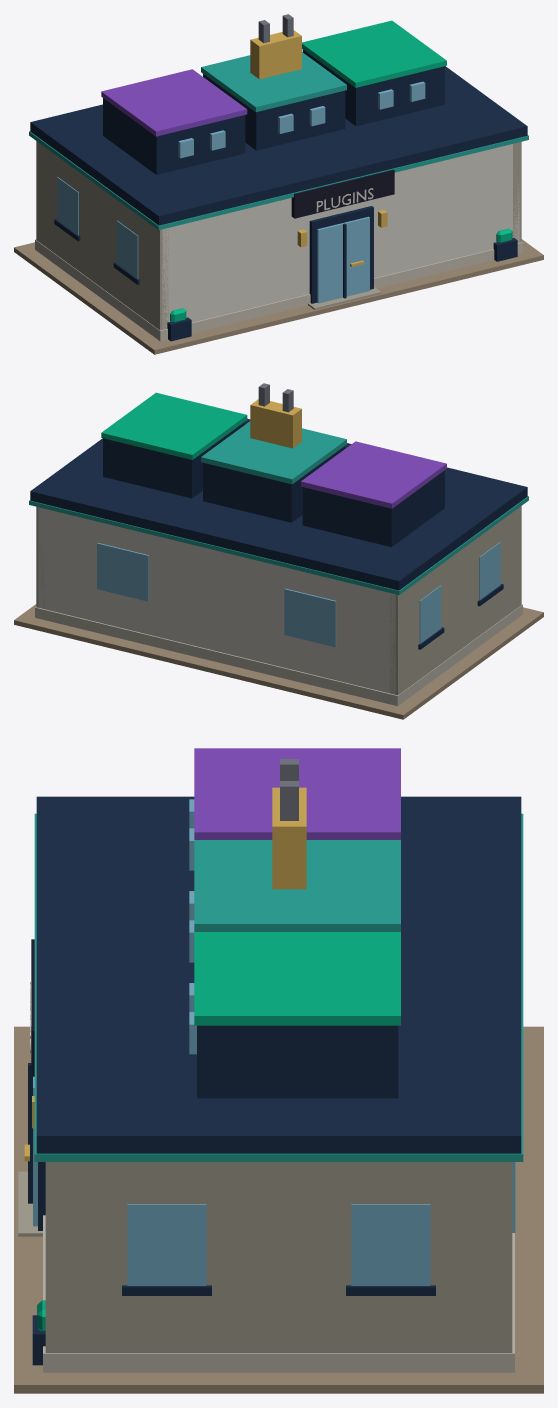
File: plugin-docks-By955wkG.glb
The picture shows the model from 3 angles, top to bottom: view 1: azimuth 30°, elevation 25°; view 2: azimuth 150°, elevation 25°; view 3: azimuth 270°, elevation 25°; orthographic projection. The views are drawn at different scales.
Parts seen in each view (by area): view 1: Architecture; view 2: Architecture; view 3: Architecture.
Boxes of the visible parts, left/top/right/bottom form: Architecture: left=14, top=14, right=543, bottom=354; Architecture: left=14, top=383, right=543, bottom=719; Architecture: left=14, top=748, right=543, bottom=1393.
Bounding box in the file's own units: 16 × 9.19 × 10.
